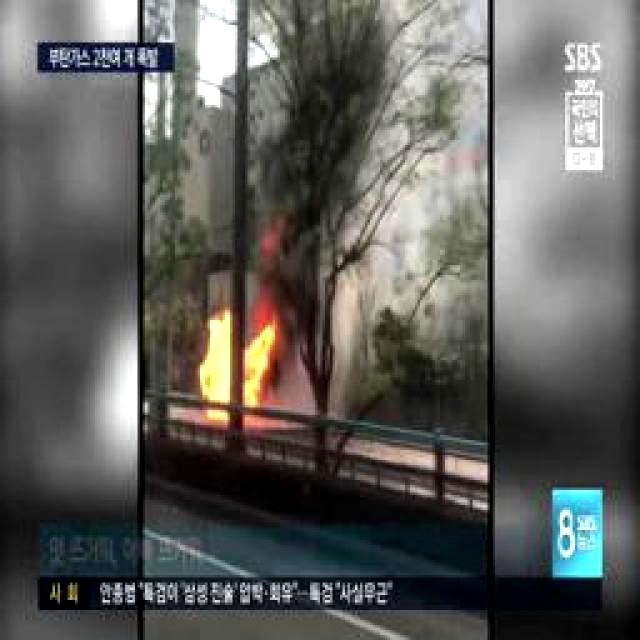helmet: (190, 327, 284, 425)
no_helmet: (298, 12, 487, 410)
